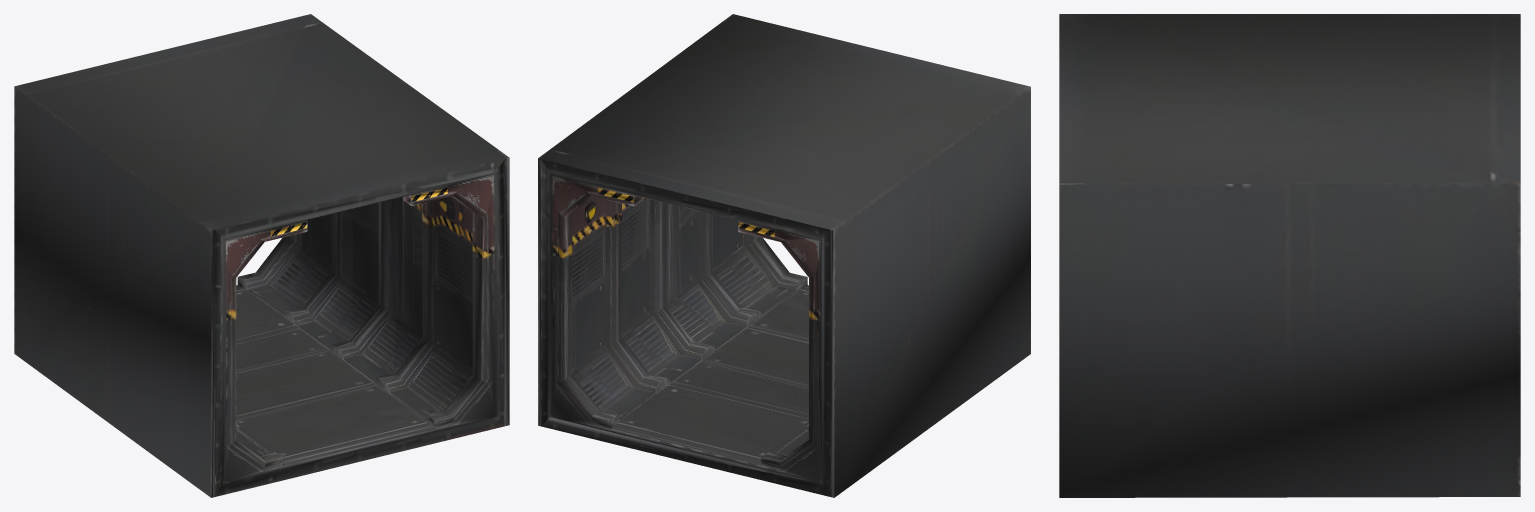
Rendered from kit_duct.glb.
The picture shows the model from 3 angles, left to right: view 1: azimuth 30°, elevation 25°; view 2: azimuth 150°, elevation 25°; view 3: azimuth 270°, elevation 25°; orthographic projection. The views are drawn at different scales.
Parts seen in each view (by area): view 1: kit_duct; view 2: kit_duct; view 3: kit_duct.
Boxes of the visible parts, x1,y1,x2,y2 form: kit_duct: (14,14,509,497); kit_duct: (538,14,1030,497); kit_duct: (1059,14,1520,497).
Bounding box in the file's own units: 3.5 × 3 × 4.
1 material, 1 textured.
